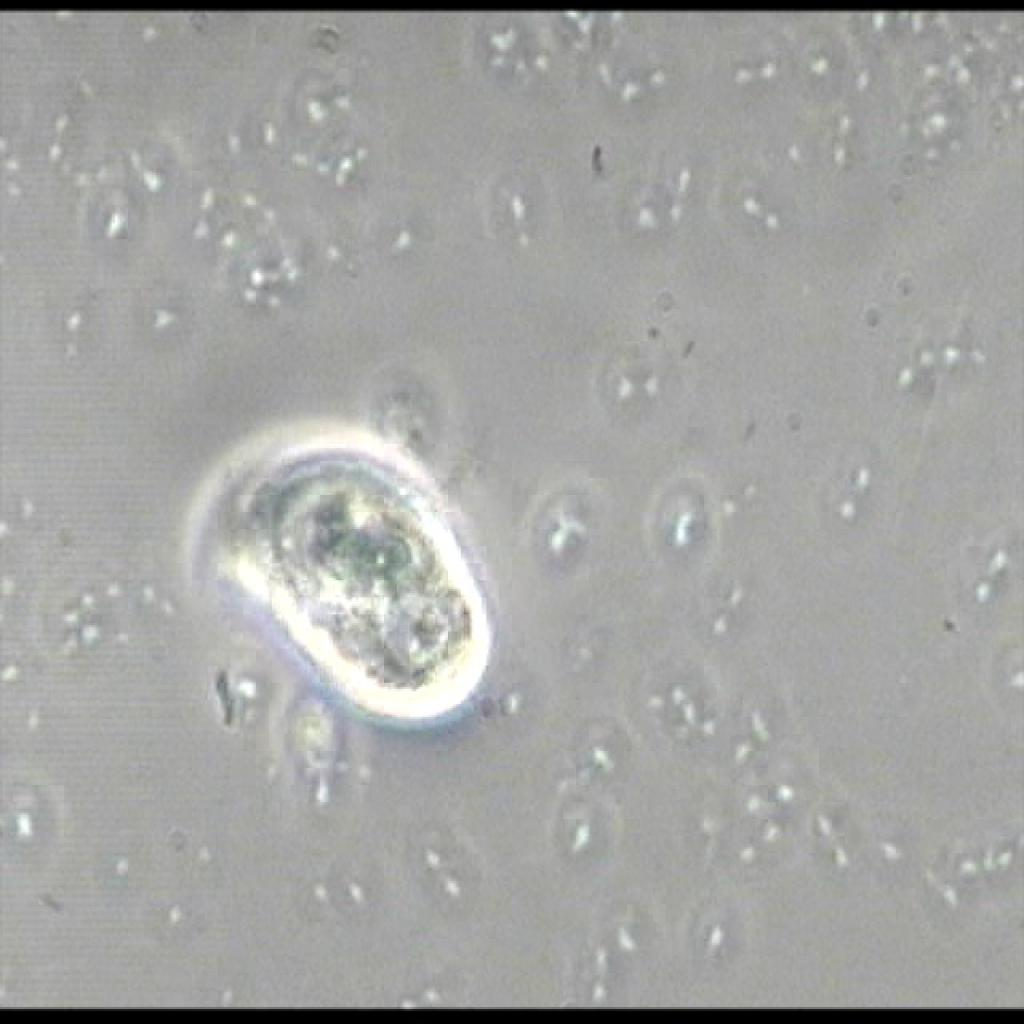Chilodonella: (158, 379, 508, 799)
